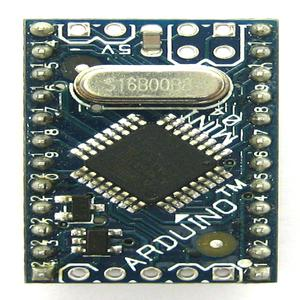duino: (24, 17, 278, 292)
